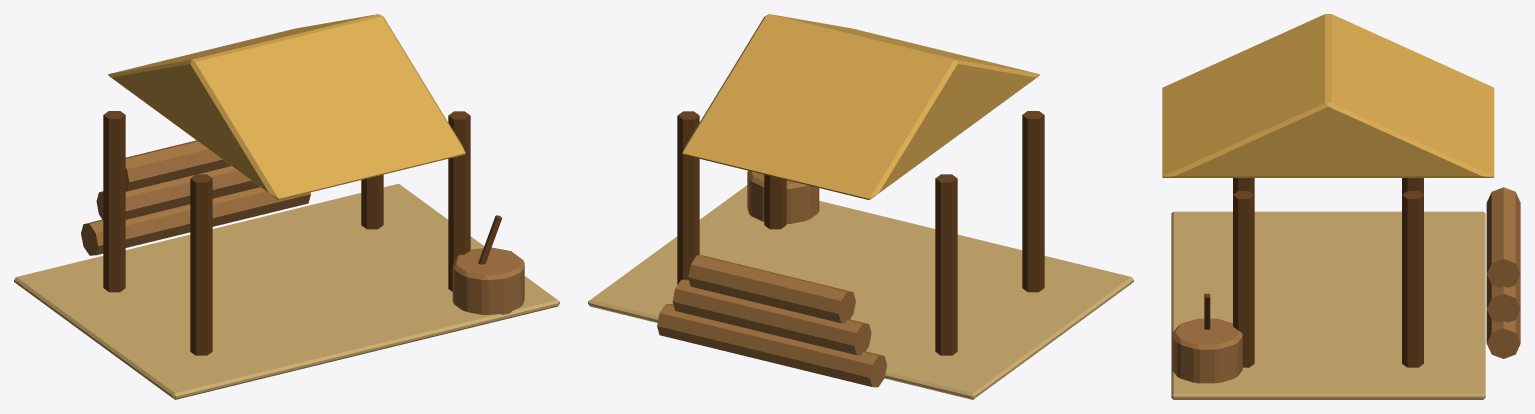
Rendered from sns_lumber_camp.glb.
The picture shows the model from 3 angles, left to right: view 1: azimuth 30°, elevation 25°; view 2: azimuth 150°, elevation 25°; view 3: azimuth 270°, elevation 25°; orthographic projection. The views are drawn at different scales.
Parts seen in each view (by area): view 1: sns_lumber_camp; view 2: sns_lumber_camp; view 3: sns_lumber_camp.
Part boxes in pixels (x1,y1,x2,y2): sns_lumber_camp: [14, 14, 559, 399]; sns_lumber_camp: [588, 14, 1133, 399]; sns_lumber_camp: [1162, 14, 1520, 399].
Bounding box in the file's own units: 3.6 × 2.29 × 2.96.
